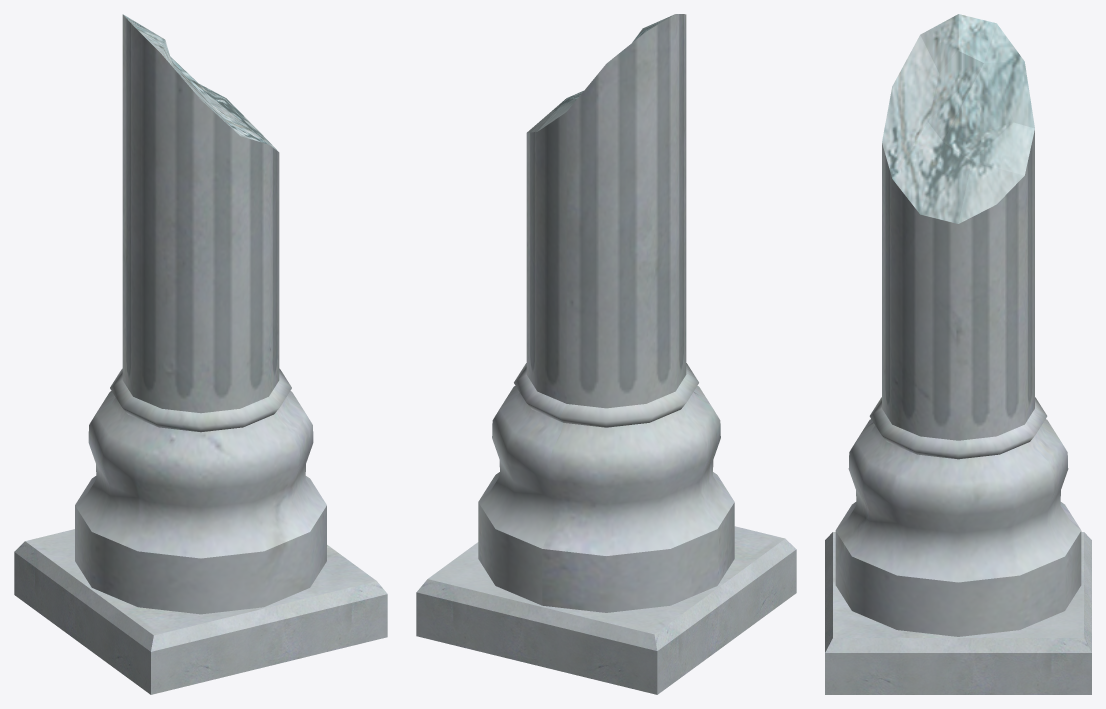
File: ColumnBroken1.fbx
3 renders of one model, left to right at view 1: azimuth 30°, elevation 25°; view 2: azimuth 150°, elevation 25°; view 3: azimuth 270°, elevation 25°, orthographic. The views are drawn at different scales.
Parts seen in each view (by area): view 1: Column_Broken1; view 2: Column_Broken1; view 3: Column_Broken1.
Boxes of the visible parts, x1,y1,x2,y2 form: Column_Broken1: [14, 14, 387, 694]; Column_Broken1: [416, 14, 796, 694]; Column_Broken1: [825, 14, 1091, 694].
Size of the model in its own units: 1 by 2.45 by 1.
